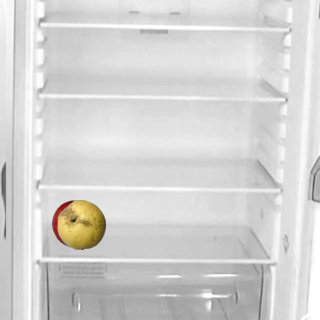Apple Braeburn: (51, 199, 101, 249)
Apple Golden 1: (56, 199, 106, 249)
